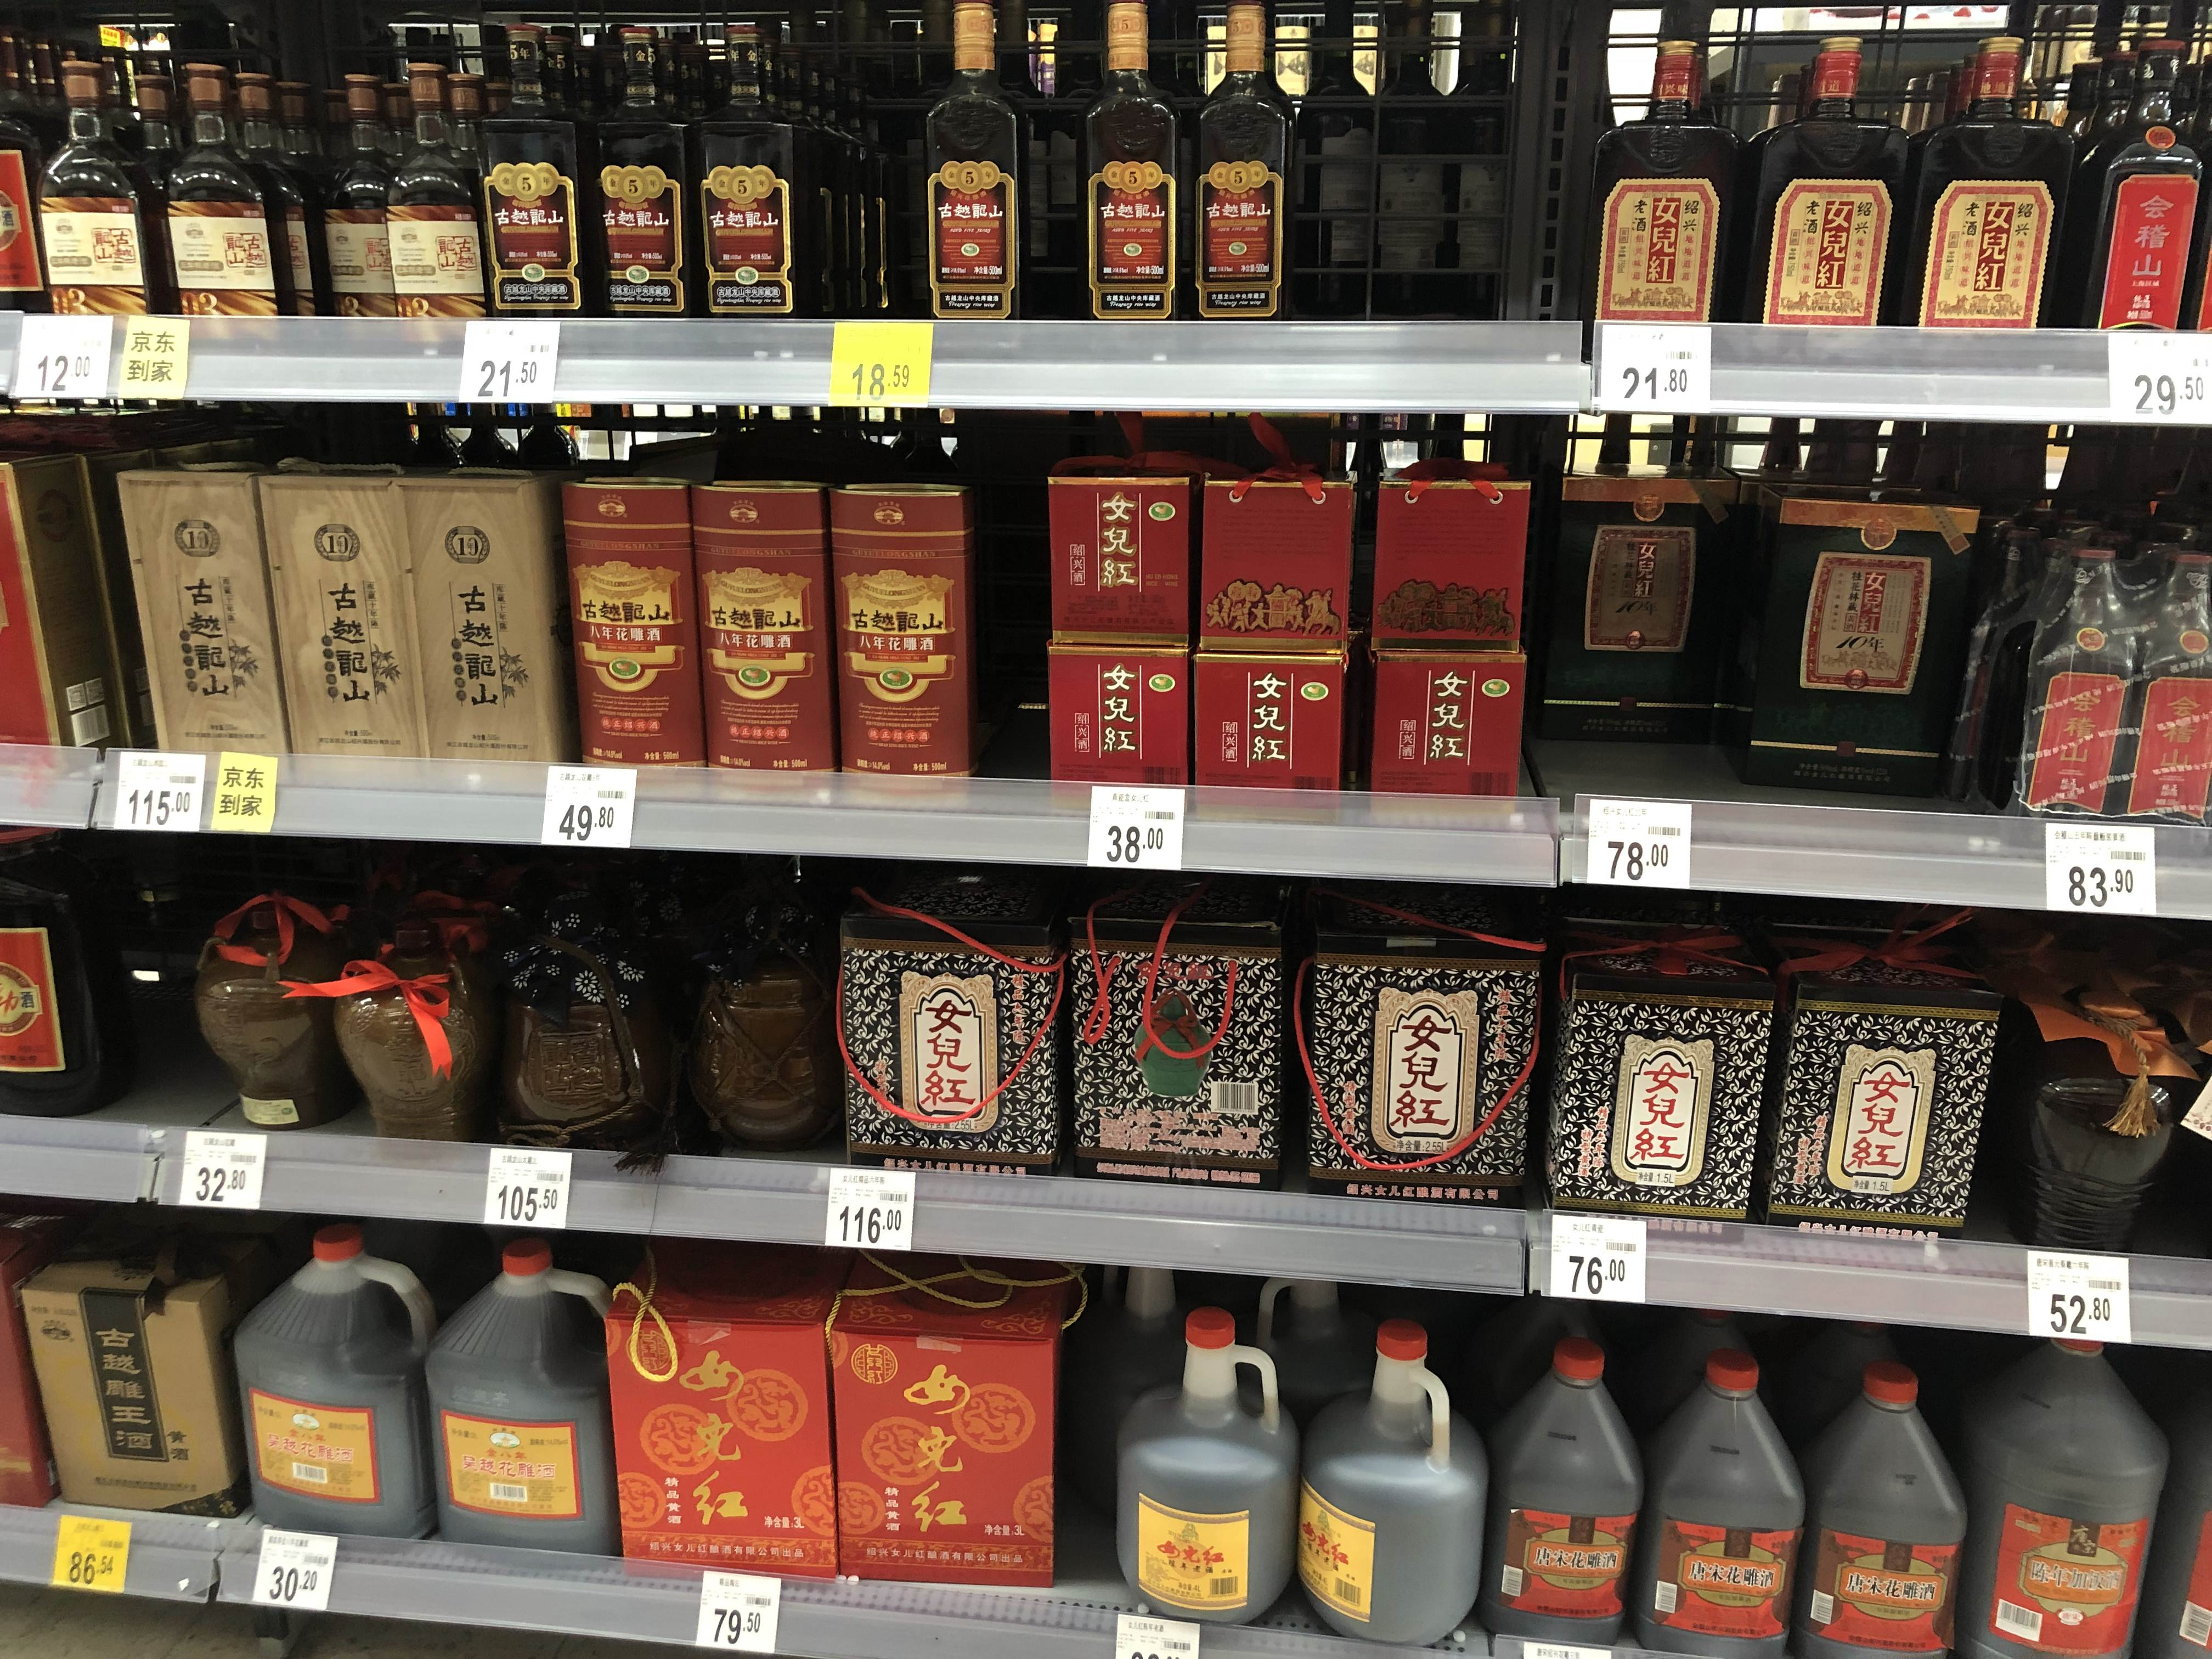bag: (1306, 929, 1536, 1197)
bottle: (1559, 939, 1771, 1225), (2052, 37, 2205, 349), (1912, 38, 2060, 359), (1747, 40, 1893, 352), (1595, 17, 1735, 342), (1268, 12, 1379, 324), (0, 816, 117, 1108), (157, 47, 272, 340), (477, 19, 583, 335), (583, 19, 690, 333), (914, 5, 1019, 324), (1080, 7, 1183, 331), (2101, 538, 2210, 842), (1186, 5, 1289, 328), (44, 51, 155, 342), (688, 14, 789, 329), (383, 33, 488, 333), (1362, 7, 1460, 324), (995, 10, 1092, 324), (324, 59, 418, 335), (246, 54, 331, 333), (3, 38, 78, 326)
box: (803, 1244, 1062, 1586), (610, 1222, 860, 1574), (17, 1232, 256, 1516), (1761, 484, 1973, 791), (1766, 958, 1980, 1241), (111, 458, 280, 774), (0, 408, 146, 770), (413, 462, 577, 772), (820, 486, 974, 798), (561, 479, 714, 789), (272, 458, 415, 775), (690, 488, 836, 796), (1540, 453, 1696, 734), (2017, 538, 2148, 836), (1165, 441, 1348, 648), (1379, 432, 1531, 664), (1359, 650, 1531, 816), (1179, 638, 1346, 803), (1052, 465, 1197, 626), (1047, 633, 1190, 786)
bucket: (1947, 1317, 2167, 1657), (233, 1223, 449, 1542), (425, 1239, 634, 1556), (1109, 1305, 1301, 1628), (1292, 1319, 1484, 1642), (1622, 1349, 1803, 1656), (1789, 1363, 1966, 1657), (1474, 1335, 1642, 1643)
others: (2000, 955, 2193, 1267), (502, 859, 657, 1155), (181, 897, 373, 1127), (691, 870, 838, 1154), (324, 939, 498, 1155)
